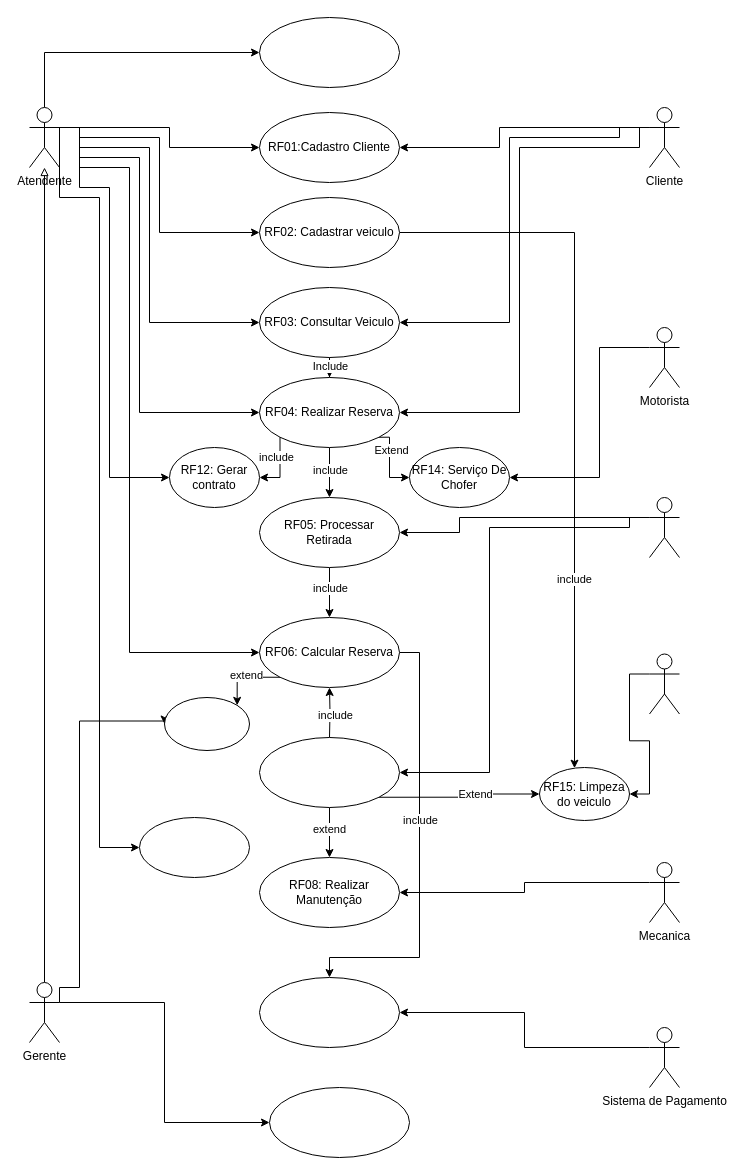
This 744x1175 diagram has some shape labels left out. Here are the shapes that lost their labels. From the top down, the centre of each, then its label:
At [329,52]: "RF11: Consulta Reserva".
At [664,527]: "Vistoria".
At [664,683]: "Lava jato".
At [207,723]: "RF16: Aplicar desconto".
At [329,772]: "RF07: Processar Devolução".
At [194,847]: "RF09: Registrar devolução".
At [329,1012]: "RF10: Gerar recibo".
At [339,1122]: "RF13: Gerar Relatório de Faturamento".
